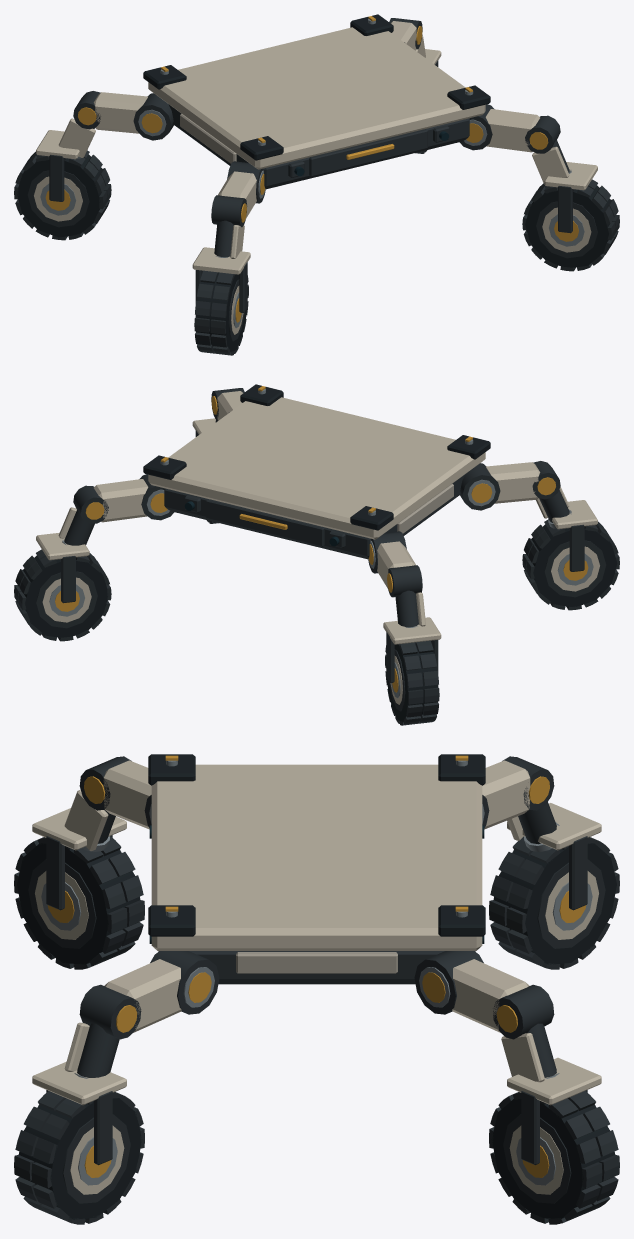
Rendered from stride_d0_lod1.glb.
The picture shows the model from 3 angles, top to bottom: view 1: azimuth 30°, elevation 25°; view 2: azimuth 150°, elevation 25°; view 3: azimuth 270°, elevation 25°; orthographic projection. The views are drawn at different scales.
Parts seen in each view (by area): view 1: CHASSIS_SURFACE, WHEEL_FR_SURFACE, WHEEL_RL_SURFACE, WHEEL_FL_SURFACE, LEG_RL_UPPER_SURFACE, LEG_FR_UPPER_SURFACE, LEG_FL_LOWER_SURFACE, LEG_FR_LOWER_SURFACE, LEG_FR_UPRIGHT_SURFACE, LEG_RL_LOWER_SURFACE, LEG_FL_UPRIGHT_SURFACE, LEG_FL_UPPER_SURFACE (+2 smaller); view 2: CHASSIS_SURFACE, WHEEL_FL_SURFACE, WHEEL_RR_SURFACE, WHEEL_RL_SURFACE, LEG_FL_UPPER_SURFACE, LEG_RR_UPPER_SURFACE, LEG_RL_LOWER_SURFACE, LEG_RR_LOWER_SURFACE, LEG_RR_UPRIGHT_SURFACE, LEG_FL_UPRIGHT_SURFACE, LEG_RL_UPRIGHT_SURFACE, LEG_RL_UPPER_SURFACE (+2 smaller); view 3: CHASSIS_SURFACE, WHEEL_FR_SURFACE, WHEEL_RR_SURFACE, WHEEL_FL_SURFACE, WHEEL_RL_SURFACE, LEG_RR_UPPER_SURFACE, LEG_FR_UPPER_SURFACE, LEG_FR_LOWER_SURFACE, LEG_RR_LOWER_SURFACE, LEG_RR_UPRIGHT_SURFACE, LEG_FR_UPRIGHT_SURFACE, LEG_FL_LOWER_SURFACE (+5 smaller).
Boxes of the visible parts, bbox=[...] form: CHASSIS_SURFACE: bbox=[143, 14, 490, 189]; WHEEL_FR_SURFACE: bbox=[522, 179, 619, 271]; WHEEL_RL_SURFACE: bbox=[14, 150, 111, 240]; WHEEL_FL_SURFACE: bbox=[194, 270, 248, 355]; LEG_RL_UPPER_SURFACE: bbox=[93, 92, 173, 140]; LEG_FR_UPPER_SURFACE: bbox=[459, 104, 539, 152]; LEG_FL_LOWER_SURFACE: bbox=[211, 195, 247, 258]; LEG_FR_LOWER_SURFACE: bbox=[525, 115, 571, 182]; LEG_FR_UPRIGHT_SURFACE: bbox=[544, 162, 597, 233]; LEG_RL_LOWER_SURFACE: bbox=[58, 91, 100, 158]; LEG_FL_UPRIGHT_SURFACE: bbox=[192, 247, 250, 312]; LEG_FL_UPPER_SURFACE: bbox=[218, 161, 265, 218]; CHASSIS_SURFACE: bbox=[143, 384, 490, 559]; WHEEL_FL_SURFACE: bbox=[522, 520, 619, 610]; WHEEL_RR_SURFACE: bbox=[14, 549, 111, 641]; WHEEL_RL_SURFACE: bbox=[385, 640, 439, 725]; LEG_FL_UPPER_SURFACE: bbox=[460, 462, 540, 510]; LEG_RR_UPPER_SURFACE: bbox=[94, 474, 174, 522]; LEG_RL_LOWER_SURFACE: bbox=[387, 565, 425, 627]; LEG_RR_LOWER_SURFACE: bbox=[58, 485, 108, 545]; LEG_RR_UPRIGHT_SURFACE: bbox=[36, 532, 89, 603]; LEG_FL_UPRIGHT_SURFACE: bbox=[552, 500, 597, 571]; LEG_RL_UPRIGHT_SURFACE: bbox=[383, 617, 441, 682]; LEG_RL_UPPER_SURFACE: bbox=[368, 531, 415, 588]; CHASSIS_SURFACE: bbox=[148, 754, 485, 984]; WHEEL_FR_SURFACE: bbox=[14, 1091, 144, 1224]; WHEEL_RR_SURFACE: bbox=[489, 1091, 619, 1224]; WHEEL_FL_SURFACE: bbox=[14, 836, 144, 969]; WHEEL_RL_SURFACE: bbox=[489, 836, 619, 969]; LEG_RR_UPPER_SURFACE: bbox=[414, 951, 529, 1032]; LEG_FR_UPPER_SURFACE: bbox=[104, 951, 219, 1032]; LEG_FR_LOWER_SURFACE: bbox=[64, 984, 141, 1078]; LEG_RR_LOWER_SURFACE: bbox=[493, 984, 559, 1082]; LEG_RR_UPRIGHT_SURFACE: bbox=[507, 1057, 601, 1165]; LEG_FR_UPRIGHT_SURFACE: bbox=[32, 1061, 126, 1165]; LEG_FL_LOWER_SURFACE: bbox=[64, 756, 131, 851].
Size of the model in its own units: 2.18 by 0.833 by 1.8.
